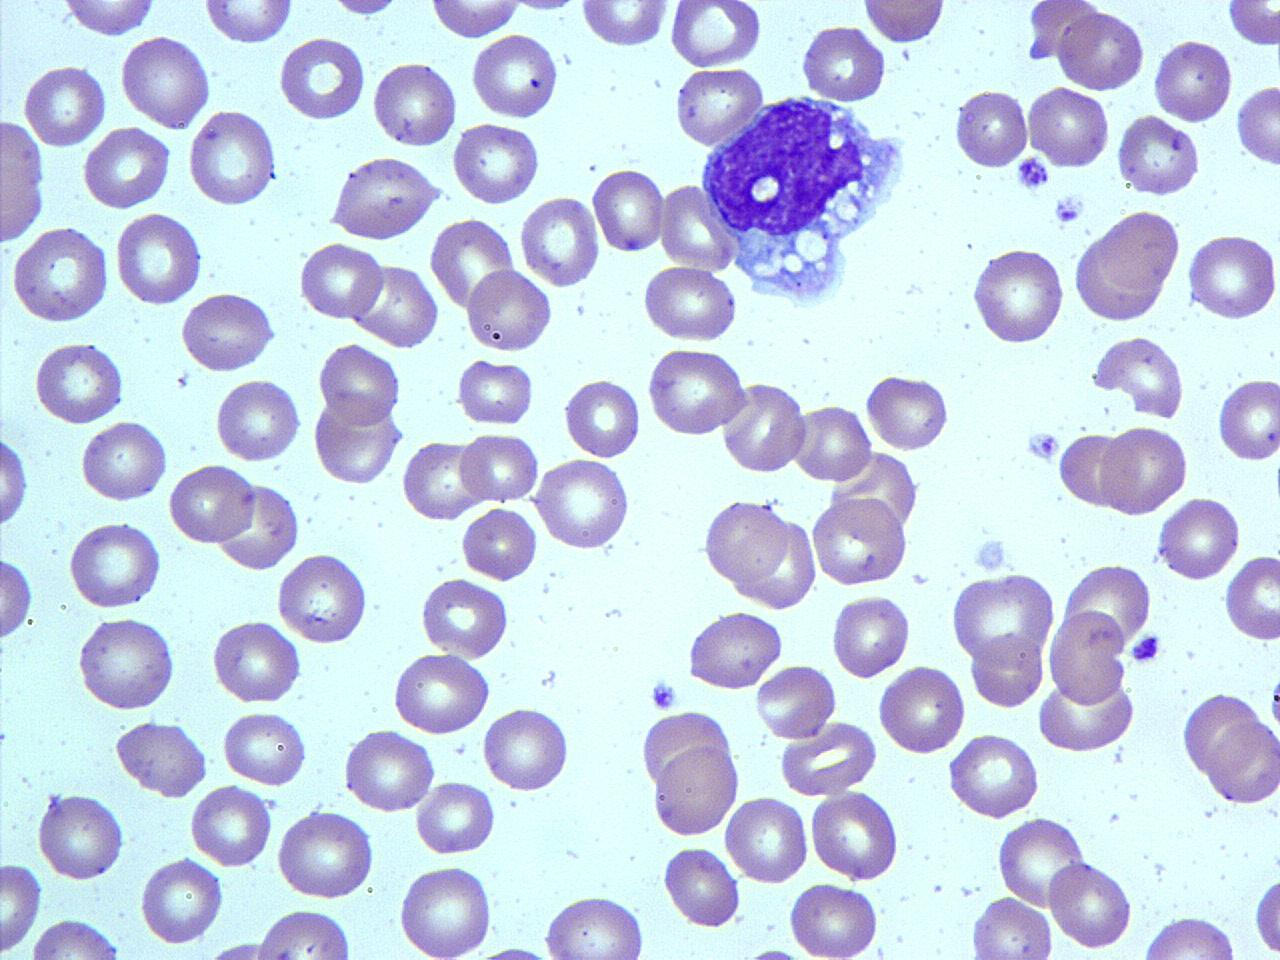Platelets: (970, 530, 1010, 576), (1024, 426, 1062, 467), (1014, 154, 1051, 193), (1051, 191, 1087, 227), (1127, 632, 1165, 665), (648, 676, 678, 713), (745, 943, 799, 960), (1269, 670, 1280, 731)
RBC: (1071, 206, 1183, 320), (326, 153, 449, 244), (76, 612, 180, 714), (8, 224, 113, 325), (948, 570, 1054, 669), (970, 245, 1067, 347), (396, 862, 498, 959), (533, 455, 632, 552), (118, 31, 212, 133), (1057, 562, 1155, 658), (274, 548, 370, 646), (185, 107, 278, 209), (643, 347, 746, 438), (65, 518, 165, 610), (276, 808, 376, 899), (808, 498, 910, 588), (33, 789, 127, 885), (1099, 421, 1191, 518), (391, 650, 494, 738), (113, 210, 206, 307), (719, 377, 808, 476), (1184, 230, 1278, 324), (994, 814, 1085, 910), (808, 790, 900, 884), (209, 616, 303, 707), (1047, 855, 1135, 953), (876, 663, 967, 756), (946, 730, 1041, 820), (686, 608, 785, 694), (349, 259, 440, 351), (470, 29, 560, 122), (480, 704, 572, 795), (722, 792, 810, 886), (30, 338, 126, 426), (653, 742, 740, 839), (178, 290, 278, 374), (464, 265, 556, 355), (78, 417, 171, 506), (1036, 673, 1138, 754), (341, 726, 435, 814), (736, 513, 819, 612), (311, 396, 403, 486), (212, 374, 303, 464), (215, 478, 302, 572), (138, 854, 226, 948), (450, 121, 544, 208), (639, 262, 741, 343), (428, 216, 514, 312), (776, 718, 880, 797), (276, 34, 368, 123), (81, 124, 174, 211), (113, 716, 210, 800), (370, 58, 458, 150), (672, 64, 766, 149), (701, 495, 789, 586), (416, 576, 510, 659), (1047, 609, 1129, 705), (518, 193, 600, 288), (21, 61, 108, 150), (786, 878, 880, 960), (1150, 35, 1234, 126), (657, 179, 738, 273), (1057, 7, 1145, 93), (1114, 112, 1202, 197), (189, 781, 273, 870), (830, 590, 912, 682), (1154, 495, 1240, 582), (316, 341, 402, 427), (166, 461, 253, 546), (1182, 690, 1264, 779), (660, 842, 742, 932), (400, 437, 483, 524), (1029, 85, 1111, 173), (798, 22, 886, 104), (791, 399, 875, 484), (590, 164, 666, 256), (540, 893, 647, 959), (864, 371, 950, 452), (220, 708, 308, 786), (296, 240, 382, 320), (561, 374, 641, 460), (950, 86, 1029, 172), (414, 776, 497, 858), (0, 112, 49, 248), (753, 663, 837, 742), (667, 0, 764, 68), (968, 628, 1047, 710), (458, 428, 540, 506), (1207, 718, 1279, 806), (459, 504, 538, 582), (1057, 429, 1131, 510), (1117, 333, 1185, 419), (1215, 374, 1279, 465), (251, 904, 354, 959), (454, 355, 534, 426), (970, 894, 1054, 960), (1223, 552, 1279, 642), (578, 0, 672, 51), (1138, 912, 1240, 958), (202, 0, 294, 46), (0, 861, 45, 955), (28, 914, 121, 958), (1234, 81, 1280, 169), (860, 0, 948, 46), (426, 0, 526, 40), (58, 0, 161, 38), (0, 546, 35, 648), (0, 431, 31, 535), (1224, 0, 1280, 49), (1251, 869, 1279, 959), (324, 0, 410, 20)
WBC: (696, 87, 907, 312), (1075, 209, 1183, 325), (326, 153, 449, 244), (651, 742, 745, 837), (117, 718, 212, 800)
